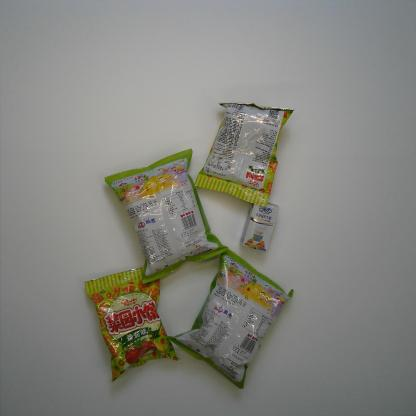Milk: (239, 203, 280, 253)
Puffed Food: (167, 248, 294, 390), (104, 148, 229, 286), (84, 266, 178, 383), (194, 101, 296, 208)
